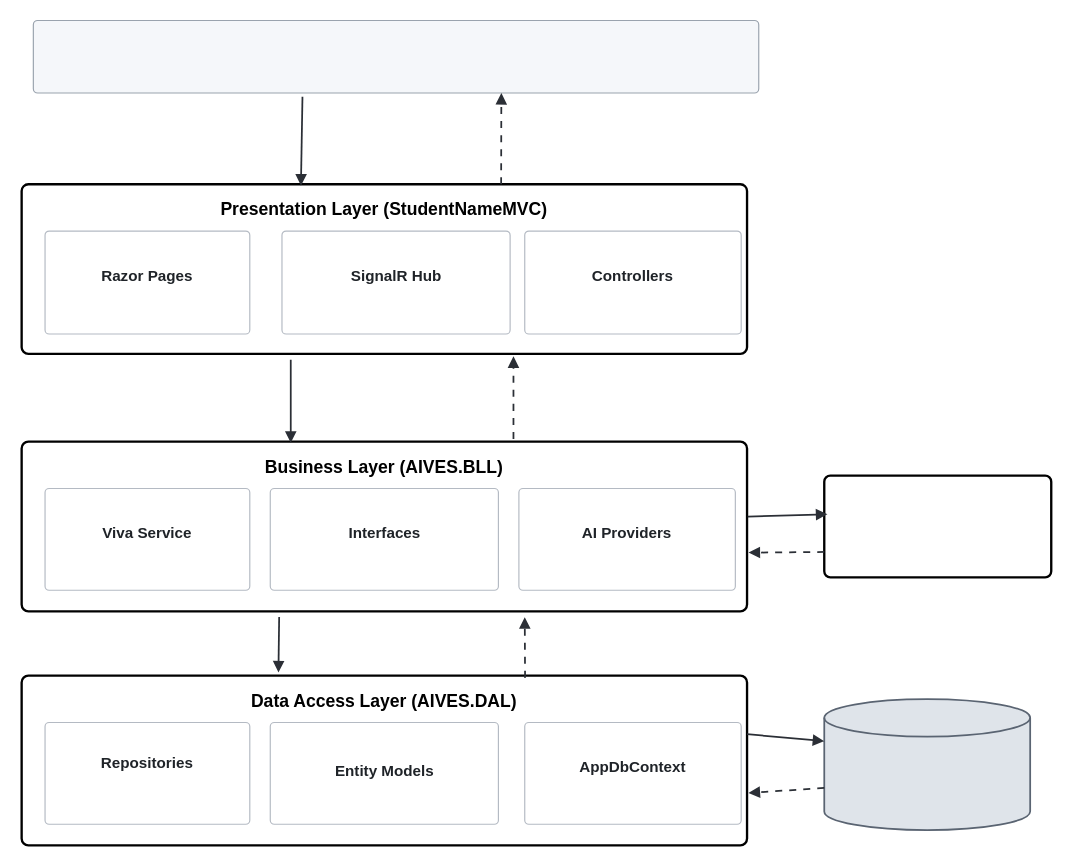
This 1072x867 diagram has some shape labels left out. Each missing label, with the centre of its shape:
"AI bên ngoài" belongs at point (937, 526).
"SQL Server" belongs at point (927, 764).
"Trình duyệt (người dùng)" belongs at point (395, 56).
